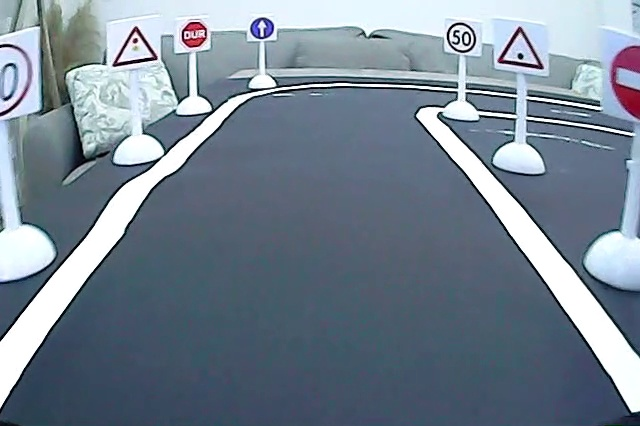green light: (492, 22, 547, 76)
red light: (109, 20, 162, 68)
speed limit 50: (446, 22, 481, 55)
stop sign: (179, 19, 209, 49)
